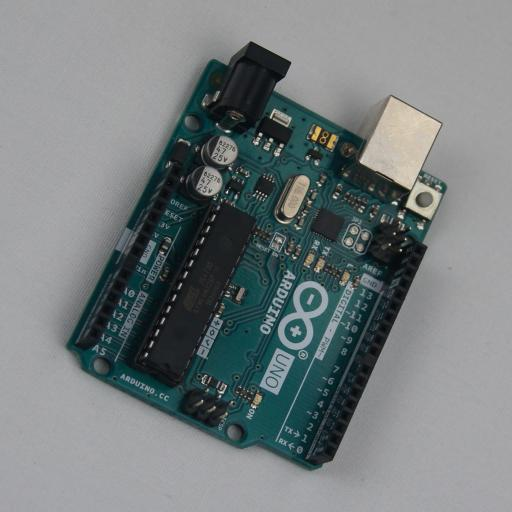Arduino Uno -Green-: (65, 41, 447, 471)
